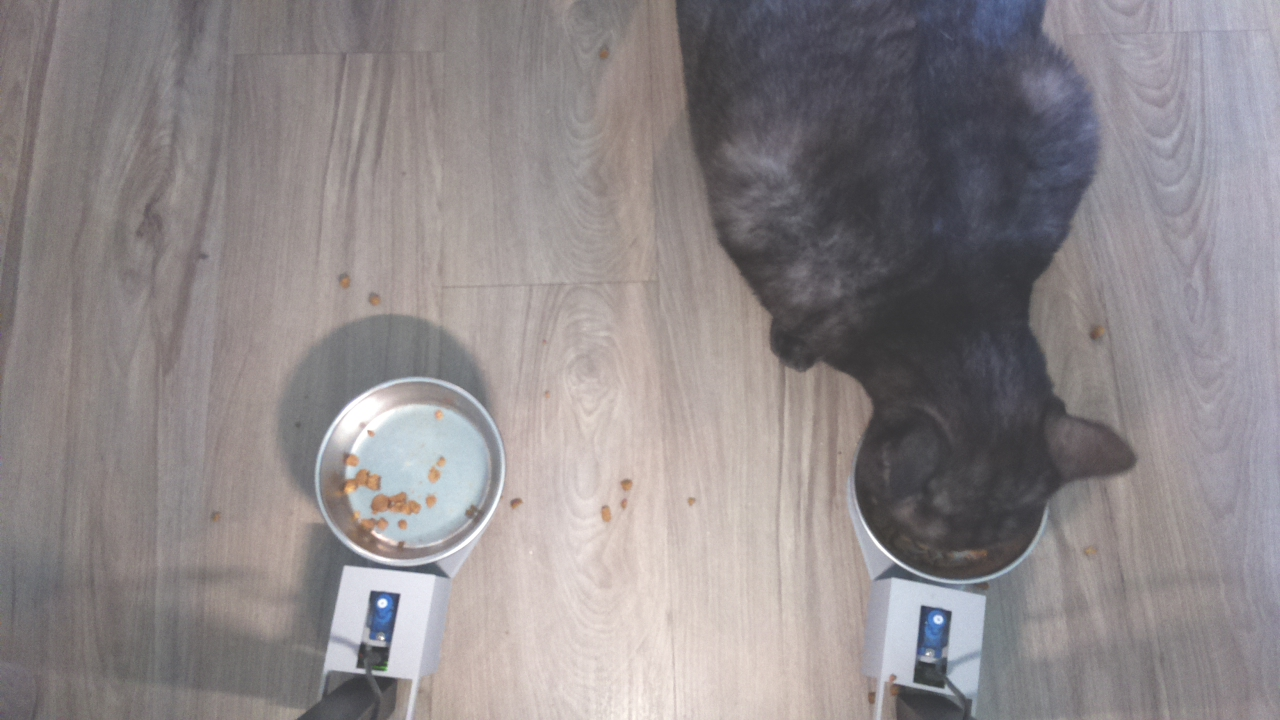open_bowl: (308, 375, 509, 570)
saki_eating: (841, 323, 1144, 596)
